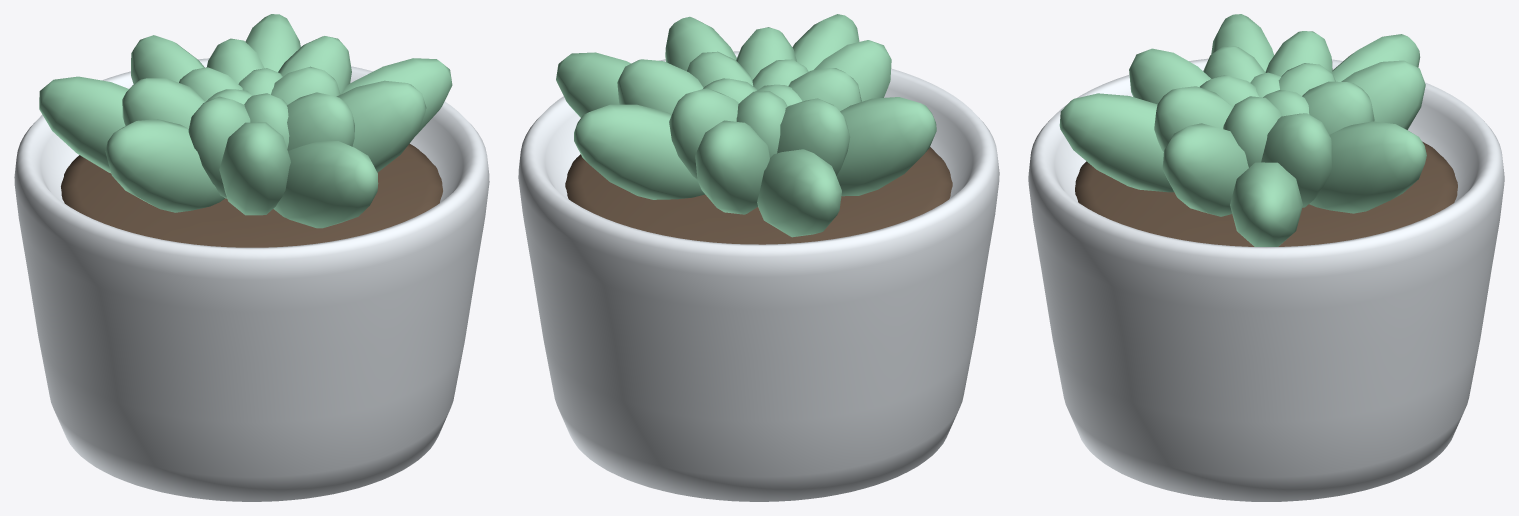
File: succulent.glb
3 renders of one model, left to right at view 1: azimuth 30°, elevation 25°; view 2: azimuth 150°, elevation 25°; view 3: azimuth 270°, elevation 25°, orthographic.
Parts seen in each view (by area): view 1: Succulent; view 2: Succulent; view 3: Succulent.
Boxes of the visible parts, <box> form: Succulent: <box>14,14,489,501</box>; Succulent: <box>518,14,999,501</box>; Succulent: <box>1028,14,1504,501</box>.
Size of the model in its own units: 0.1172 by 0.0981 by 0.1172.
